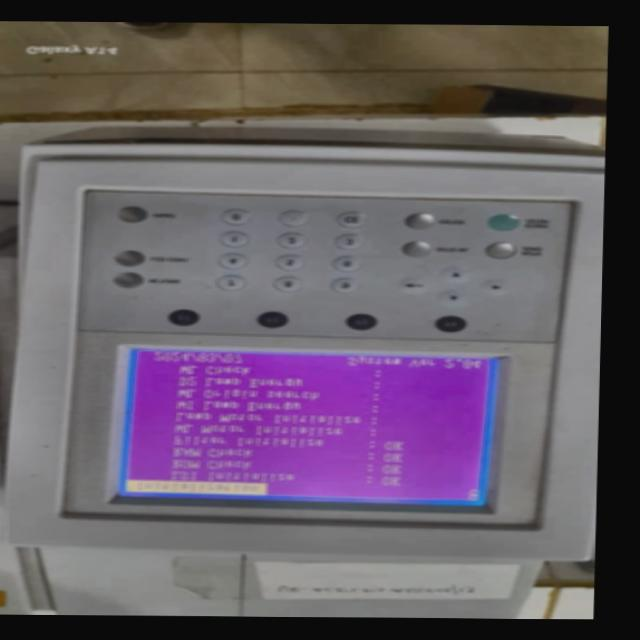Spectrophotometer: (7, 146, 605, 536)
